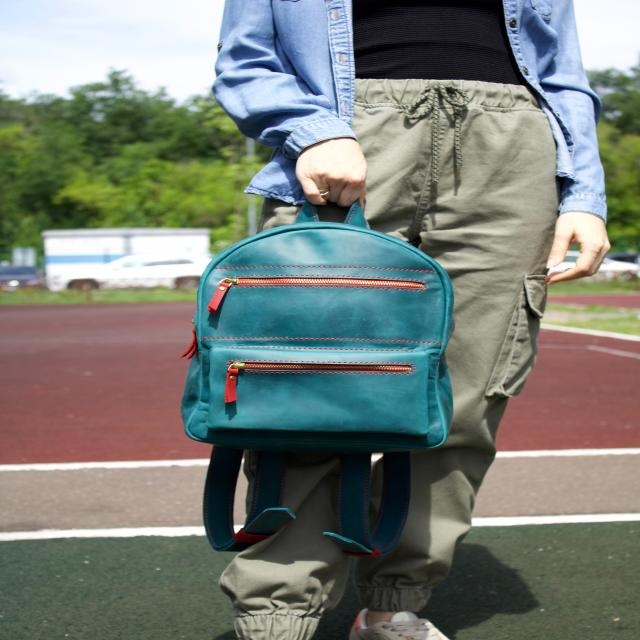backpack: (181, 192, 454, 563)
